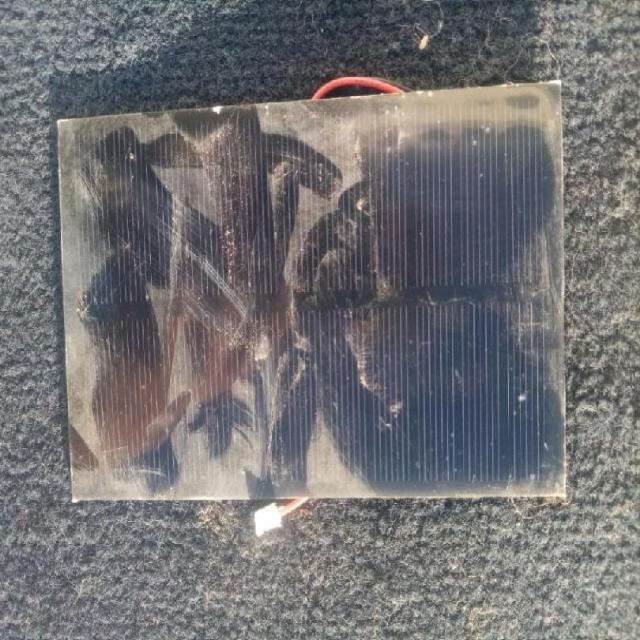faulty: (42, 96, 563, 508)
